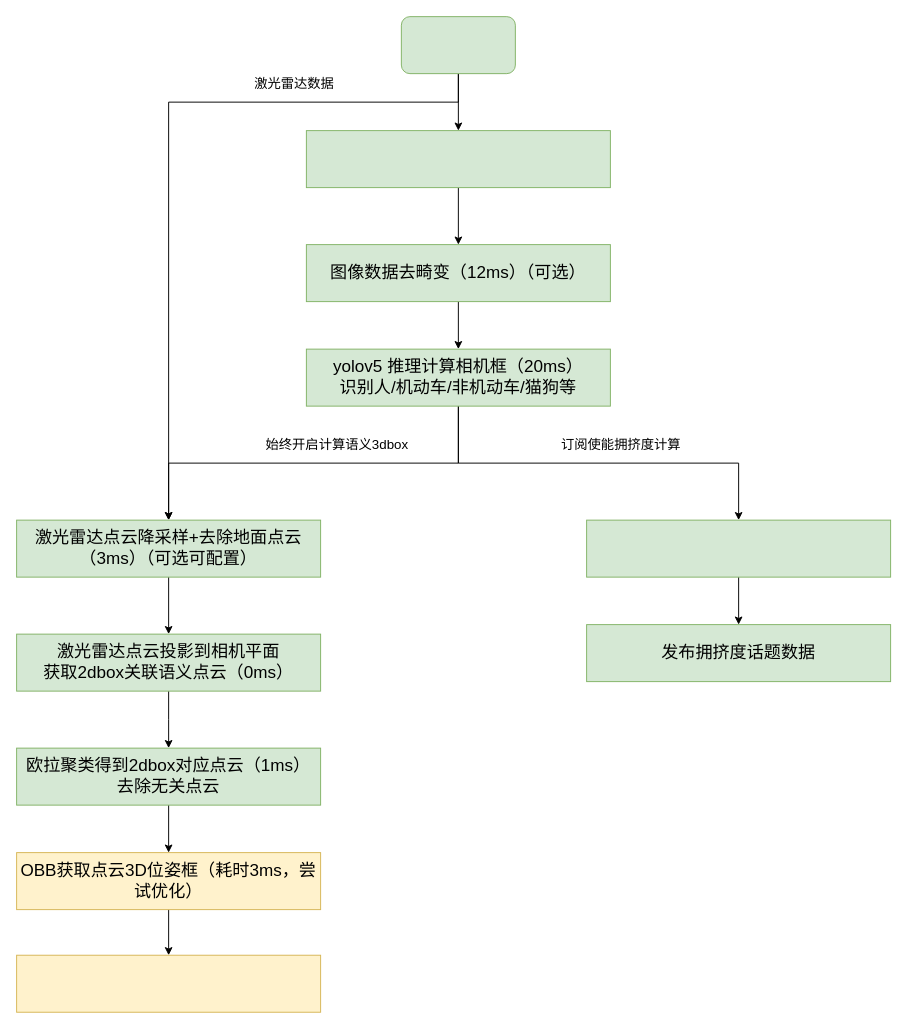
Image size: 907x1029. Some labels were removed from this diagram. Here are the shapes that lost their labels. From the top down, the centre of each, then its label:
(x=457, y=45): 接收激光雷达图像
(x=457, y=159): 读取dev驱动获取相机数据（0ms）
(x=738, y=548): 单目测距拥挤度计算（1ms）
(x=168, y=983): 发布语义3dbox（话题数据类型还需要和感知再对齐）
